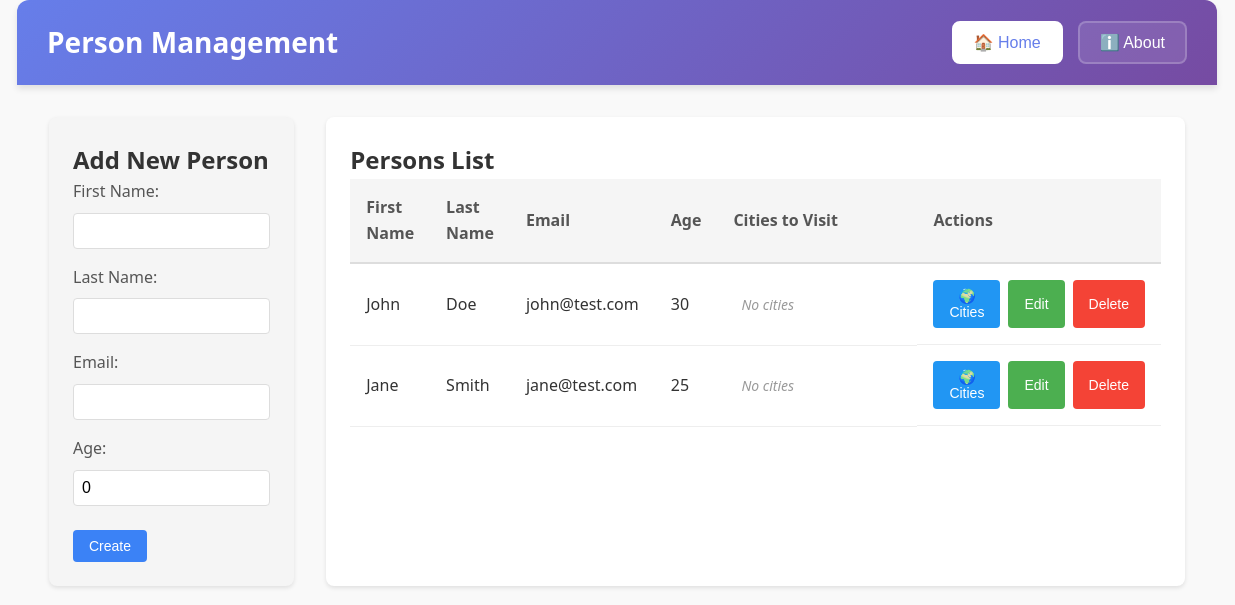
it: App › edit person › should cancel editing when cancel button clicked
Expected: the text "John" is shown, left=350, top=263, right=430, bottom=345
Click the button "Edit" in the row of "Doe": (1036, 304) left=1008, top=280, right=1064, bottom=328
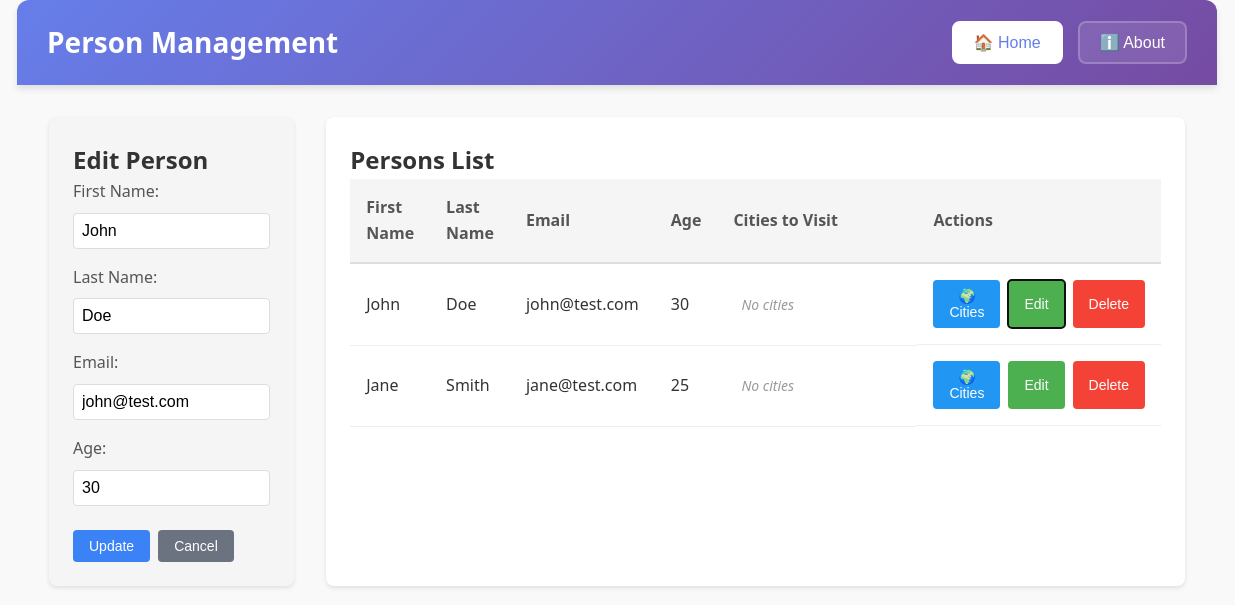
Click the button "Cancel": (196, 546) left=158, top=530, right=234, bottom=562
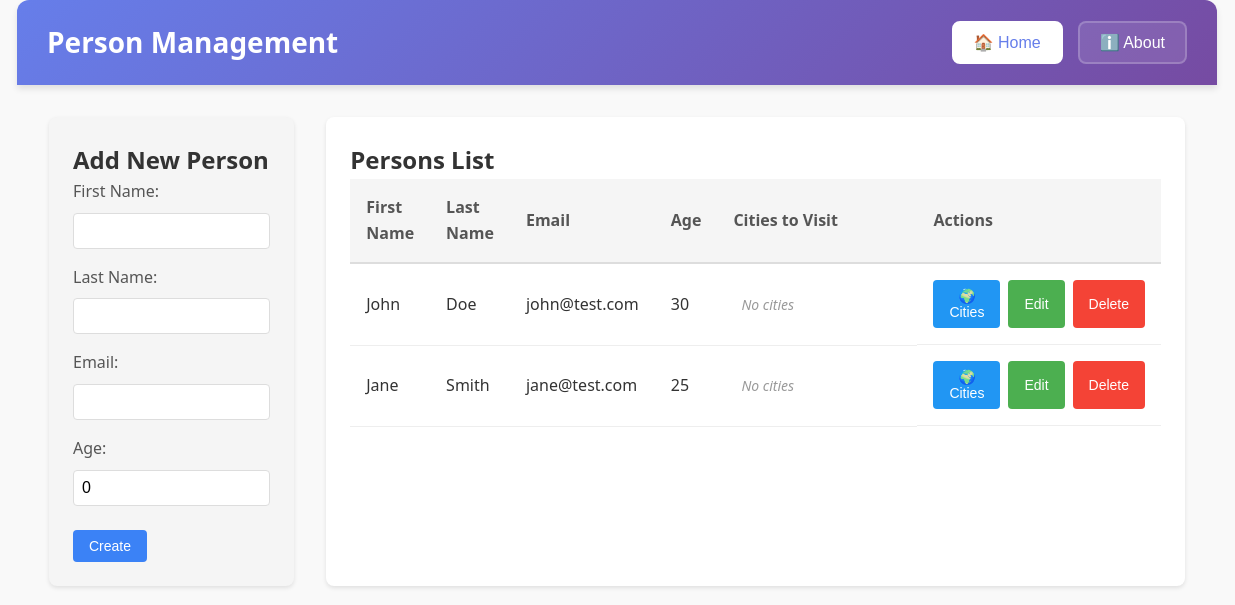
Result: the field labelled "First Name:" is empty at left=73, top=213, right=270, bottom=249
Result: the button "Create" is shown at left=73, top=530, right=147, bottom=562
